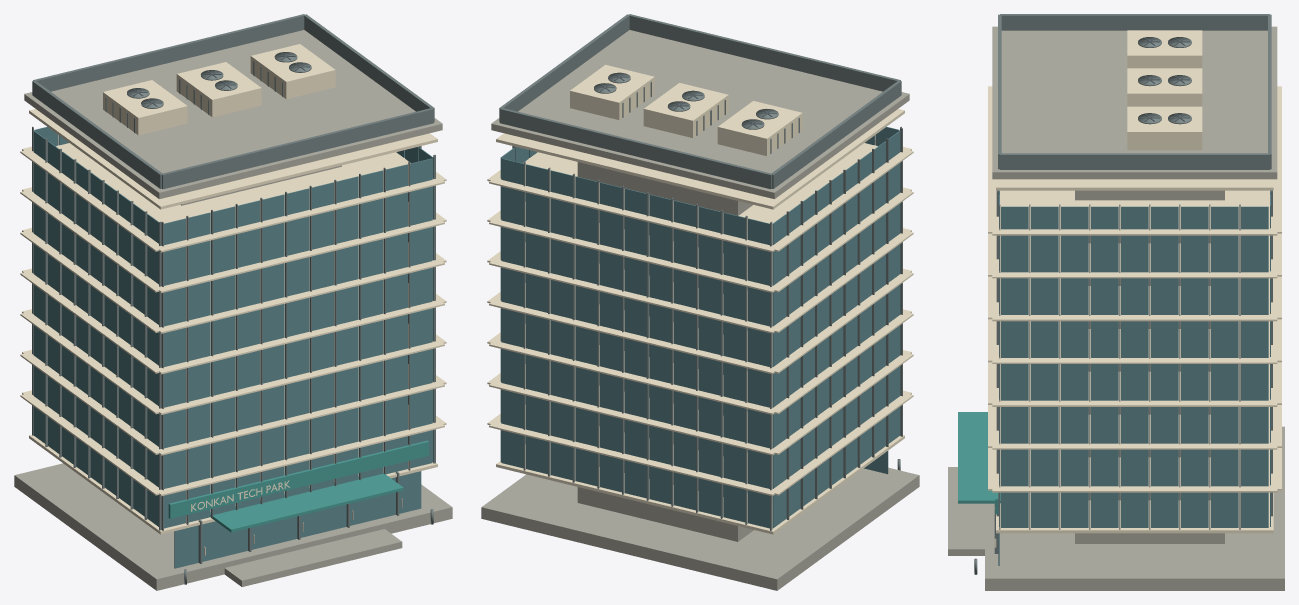
File: office.glb
3 views of the same model, side by side, from view 1: azimuth 30°, elevation 25°; view 2: azimuth 150°, elevation 25°; view 3: azimuth 270°, elevation 25° (orthographic). The views are drawn at different scales.
Visible parts, largest first — view 1: office_GLASS, office_CREAM, office_CONCRETE, office_METAL, office_AWNING; view 2: office_GLASS, office_CONCRETE, office_CREAM, office_METAL; view 3: office_GLASS, office_CONCRETE, office_CREAM, office_METAL, office_AWNING, office_TANK.
Boxes of the visible parts, x1,y1,x2,y2 form: office_GLASS: (33,126,433,568); office_CREAM: (20,44,446,534); office_CONCRETE: (14,30,452,590); office_METAL: (32,14,435,584); office_AWNING: (168,440,428,532); office_GLASS: (500,126,900,528); office_CONCRETE: (481,30,919,590); office_CREAM: (487,64,913,534); office_METAL: (499,14,902,530); office_GLASS: (998,190,1270,565); office_CONCRETE: (948,26,1284,590); office_CREAM: (988,30,1281,533); office_METAL: (974,14,1272,574); office_AWNING: (958,412,1000,514); office_TANK: (1139,37,1189,121).
Size of the model in its own units: 24 by 32.02 by 22.45.
